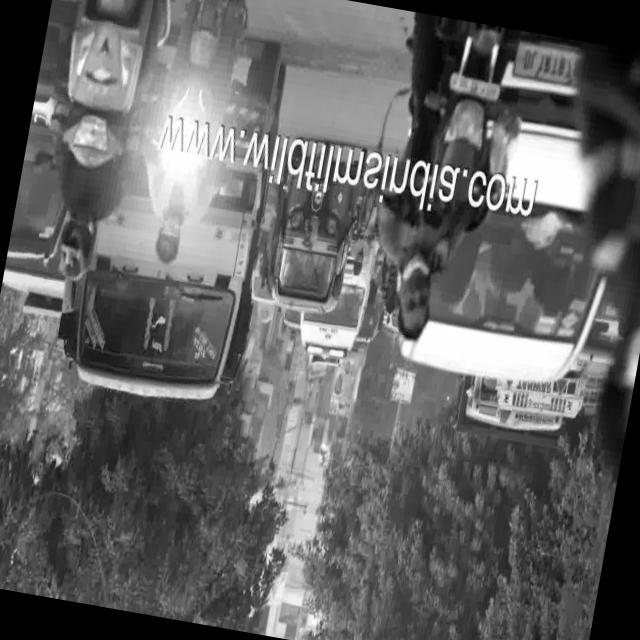ambulance: (282, 304, 380, 391)
